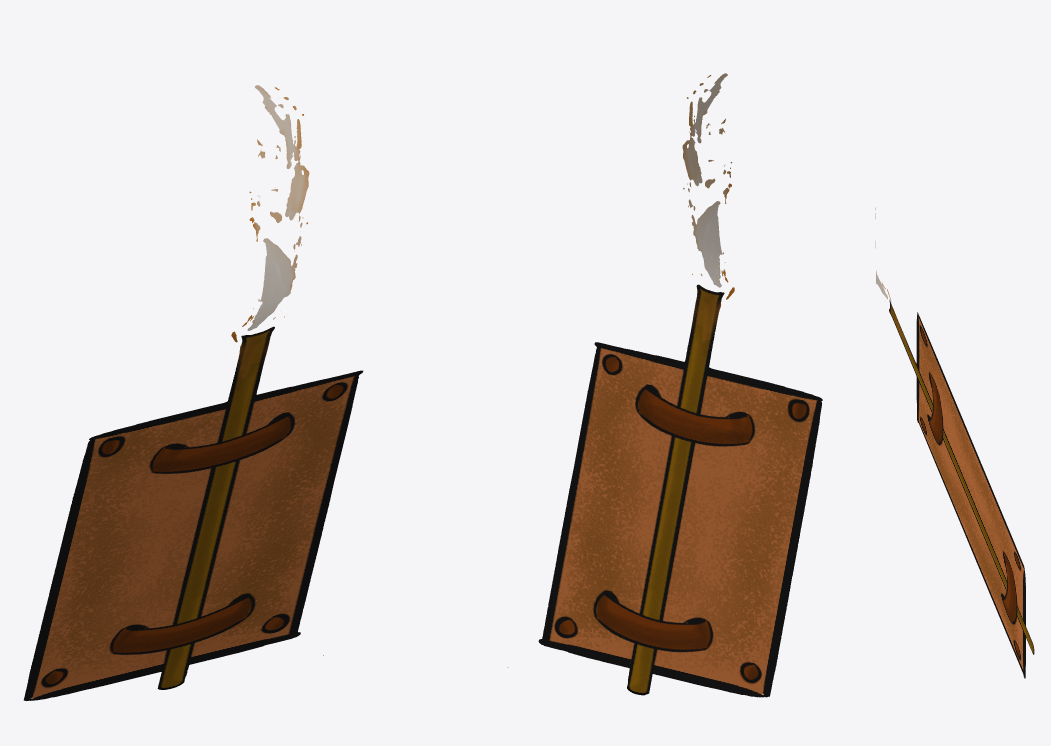
Rendered from Torch.fbx.
3 renders of one model, left to right at view 1: azimuth 30°, elevation 25°; view 2: azimuth 150°, elevation 25°; view 3: azimuth 270°, elevation 25°, orthographic. The views are drawn at different scales.
Visible parts, largest first — view 1: pPlane1; view 2: pPlane1; view 3: pPlane1.
Part boxes in pixels (x1=…): pPlane1: x1=23, y1=85, x2=363, y2=700; pPlane1: x1=507, y1=73, x2=822, y2=697; pPlane1: x1=875, y1=207, x2=1034, y2=678.
Bounding box in the file's own units: 50 × 99.13 × 24.92.
